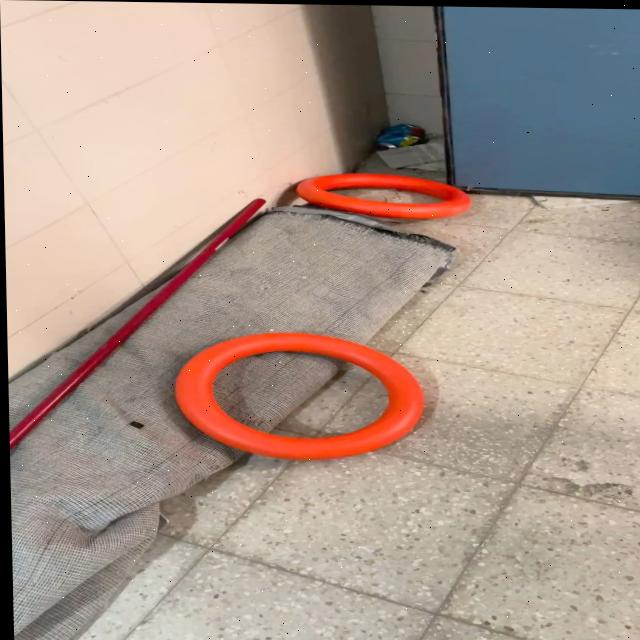note: (169, 329, 427, 463), (292, 170, 475, 221)
